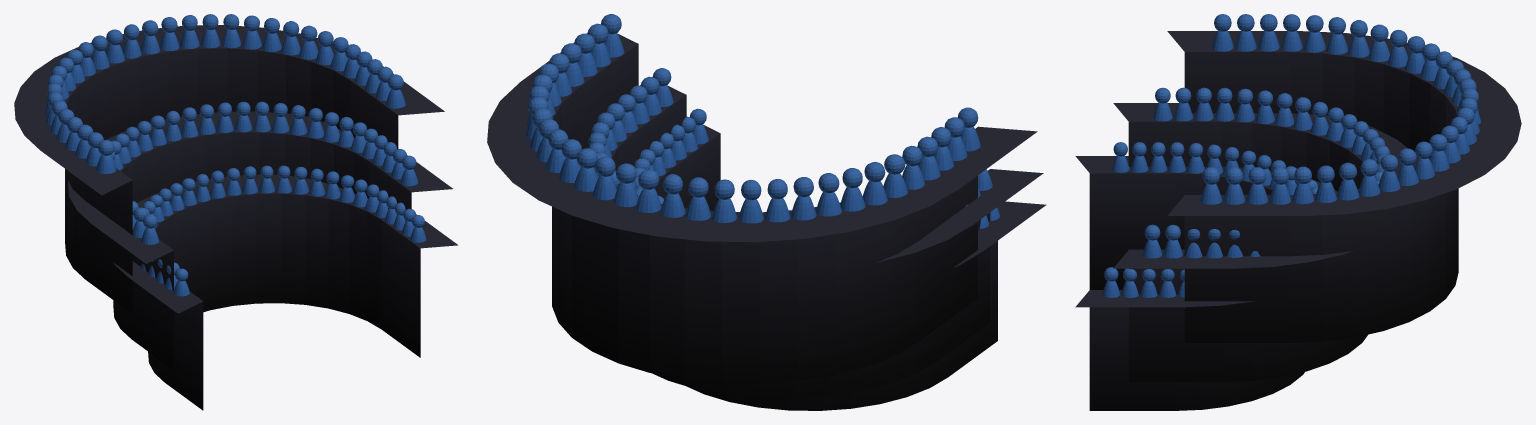
Rendered from audience.fbx.
The picture shows the model from 3 angles, left to right: view 1: azimuth 30°, elevation 25°; view 2: azimuth 150°, elevation 25°; view 3: azimuth 270°, elevation 25°; orthographic projection. The views are drawn at different scales.
Visible parts, largest first — view 1: Audience; view 2: Audience; view 3: Audience.
Part boxes in pixels (x1=…): Audience: x1=14, y1=14, x2=457, y2=410; Audience: x1=487, y1=14, x2=1046, y2=410; Audience: x1=1075, y1=14, x2=1521, y2=410.
Bounding box in the file's own units: 3245 × 2122 × 3310.
